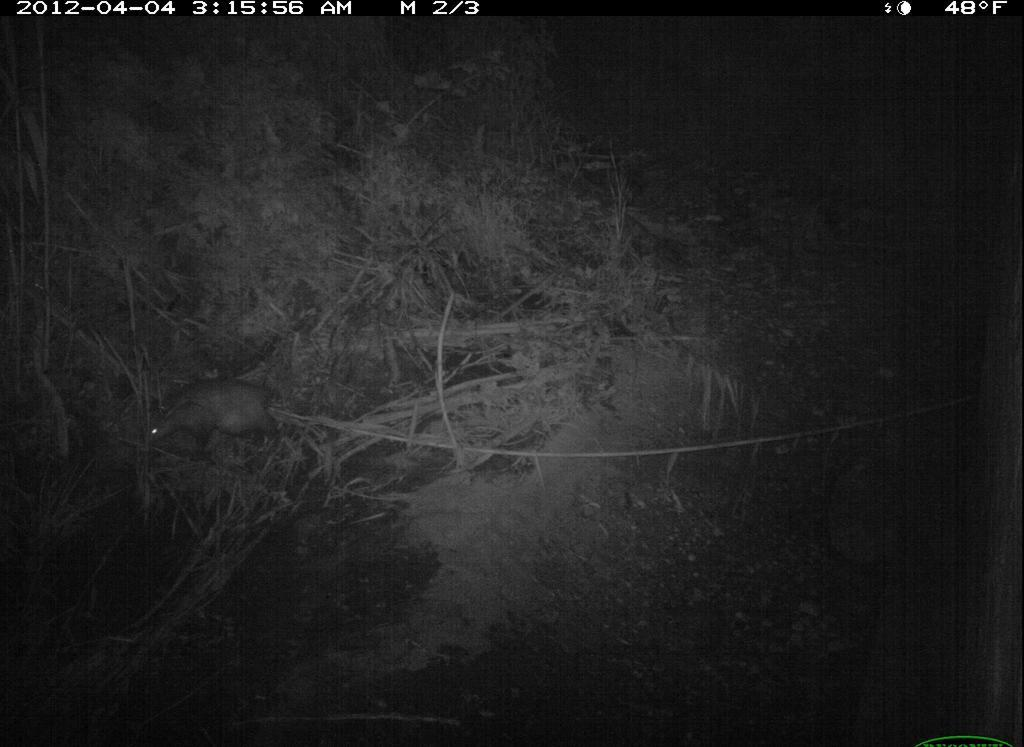opossum: (136, 374, 297, 466)
